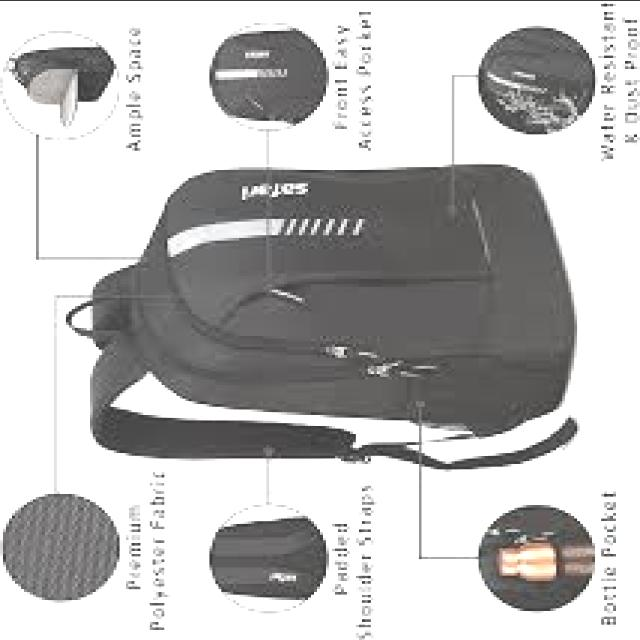backpack: (64, 165, 578, 473)
